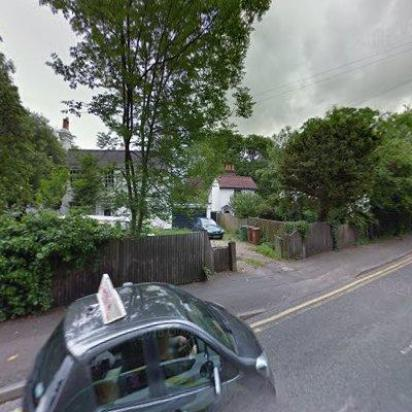moving-car: (23, 272, 280, 412)
